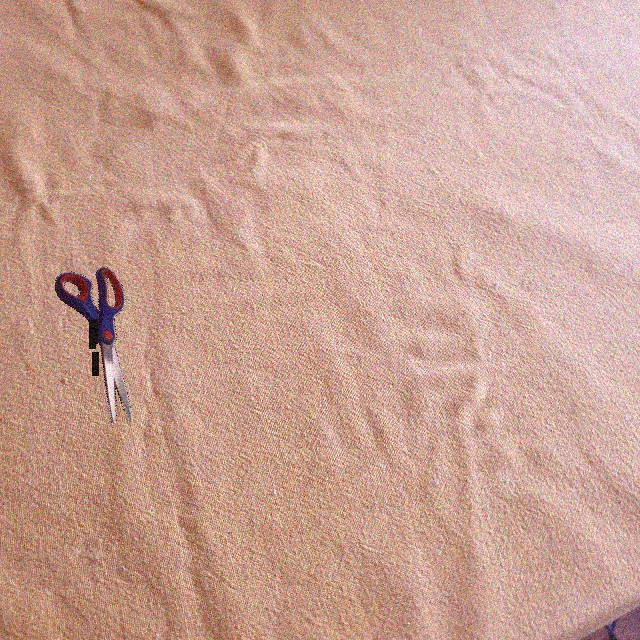scissors: (55, 266, 131, 423)
